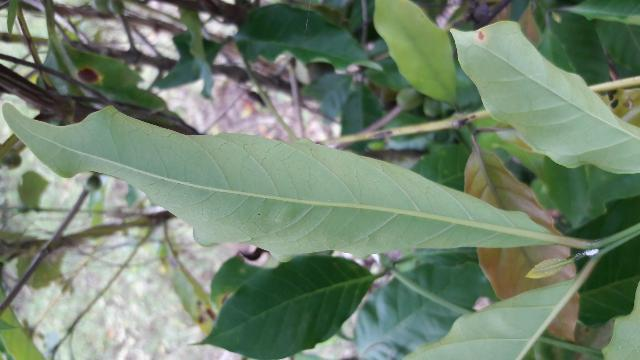healthy: (7, 102, 559, 255)
